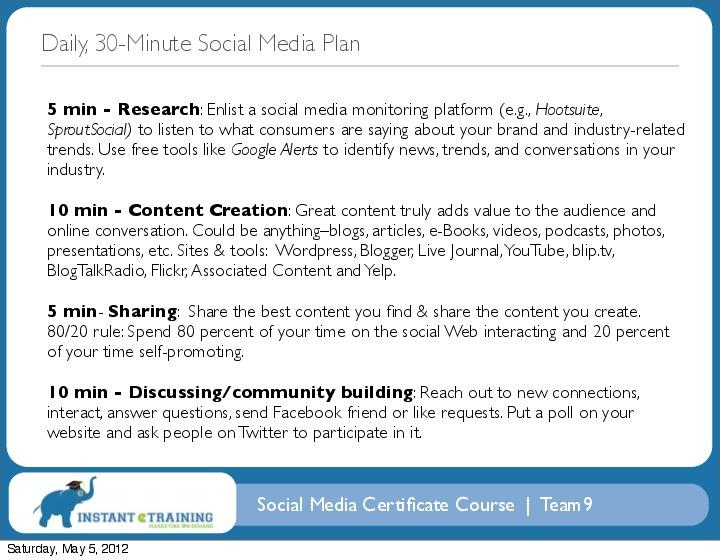paragraph: (31, 74, 699, 450)
title: (33, 19, 391, 64)
